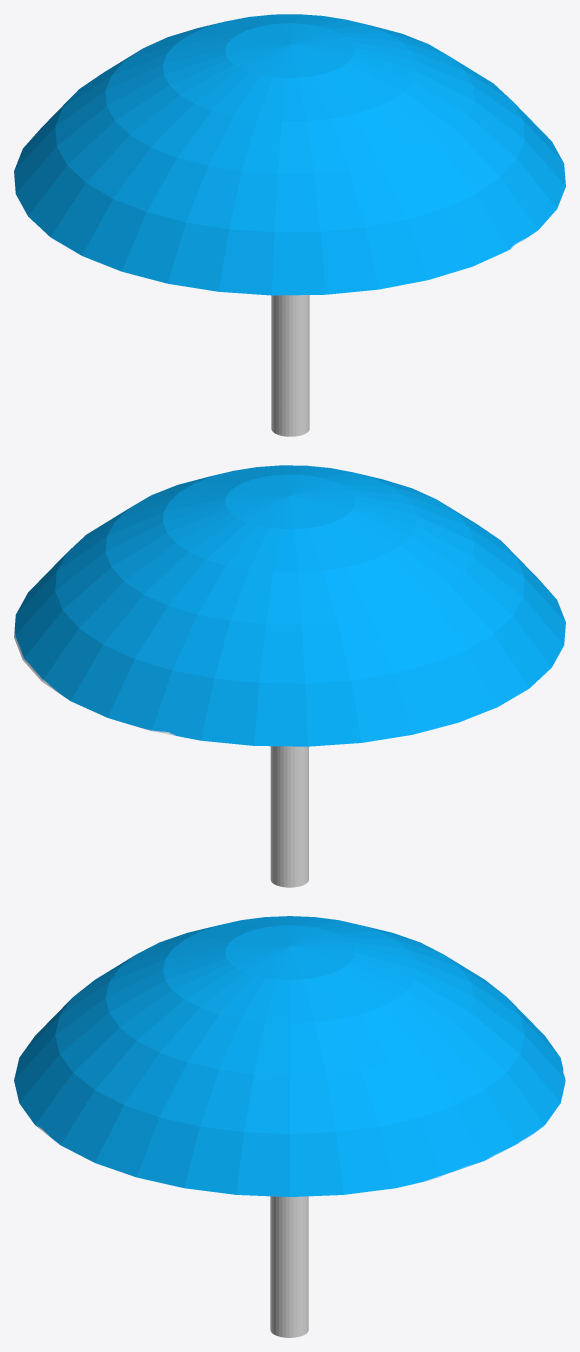
The model's file is parasol.obj.
3 renders of one model, top to bottom at view 1: azimuth 30°, elevation 25°; view 2: azimuth 150°, elevation 25°; view 3: azimuth 270°, elevation 25°, orthographic.
Parts seen in each view (by area): view 1: 円柱; view 2: 円柱; view 3: 円柱.
Part boxes in pixels (x1,y1,x2,y2): 円柱: (14,14,565,436); 円柱: (14,465,565,887); 円柱: (14,916,565,1337).
Bounding box in the file's own units: 1.38 × 1.06 × 1.38.
